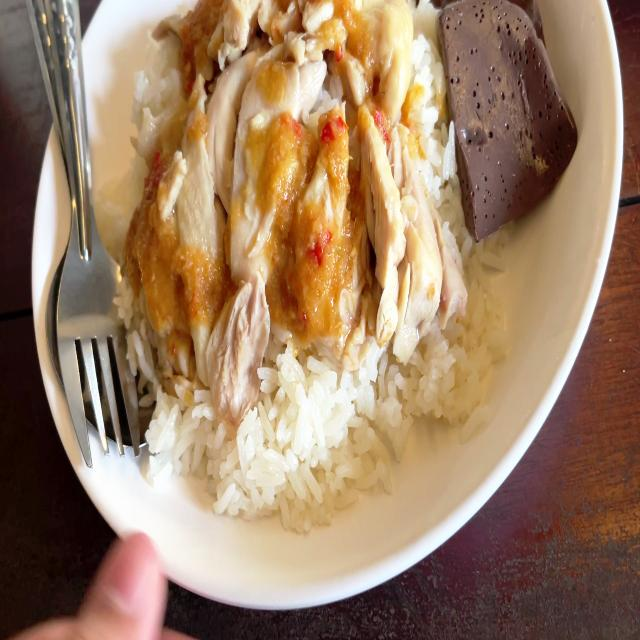boiled_chicken: (133, 0, 425, 332)
boiled_chicken_blood_jelly: (443, 0, 576, 231)
chicken_rice: (127, 0, 575, 496)
